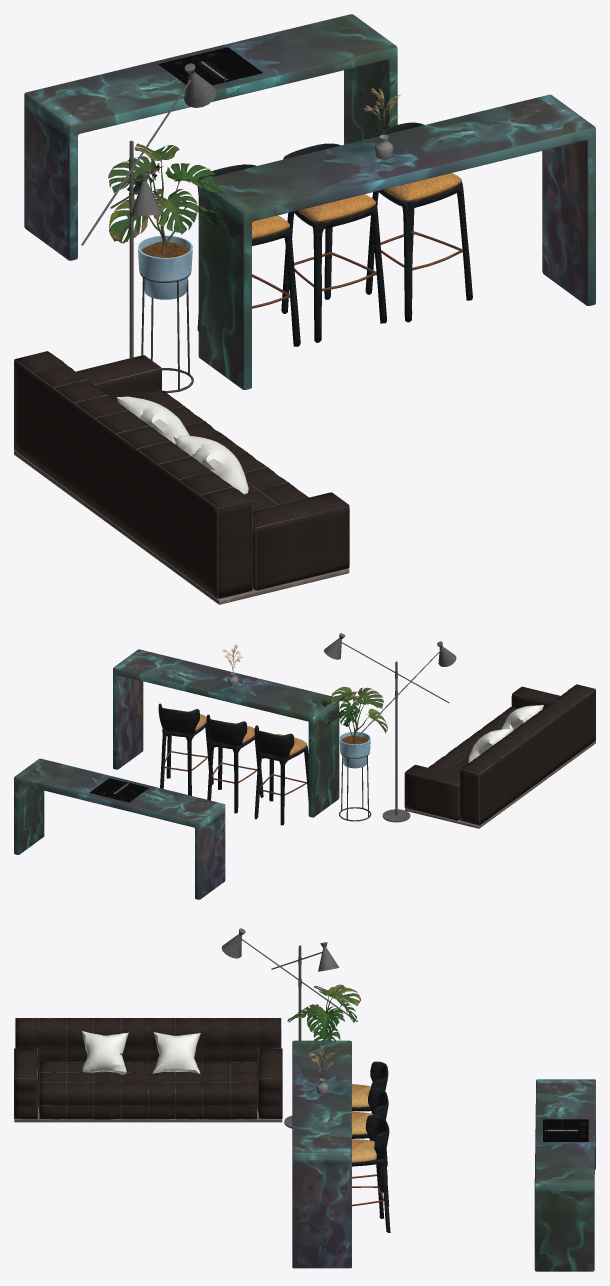
Rendered from Nuclear Reset.gltf.
3 views of the same model, one above another, from view 1: azimuth 30°, elevation 25°; view 2: azimuth 150°, elevation 25°; view 3: azimuth 270°, elevation 25° (orthographic). The views are drawn at different scales.
Parts seen in each view (by area): view 1: 2.sofa, 6.island.1, 6.island.2, 1.sofa, 7.stool.2, 5.plant, 7.stool.3, 4.pot, 3.lamp, 7.stool.1, 11.Grill; view 2: 2.sofa, 6.island.1, 6.island.2, 1.sofa, 7.stool.1, 7.stool.2, 7.stool.3, 3.lamp, 5.plant, 4.pot, 11.Grill; view 3: 2.sofa, 6.island.1, 6.island.2, 1.sofa, 7.stool.3, 5.plant, 3.lamp, 7.stool.2, 11.Grill, 7.stool.1.
Part boxes in pixels (x1,y1,x2,y2): 2.sofa: (14, 351, 349, 598); 6.island.1: (198, 94, 595, 389); 6.island.2: (24, 14, 397, 260); 1.sofa: (14, 351, 349, 604); 7.stool.2: (281, 143, 386, 342); 5.plant: (108, 143, 224, 253); 7.stool.3: (365, 122, 472, 322); 4.pot: (138, 235, 193, 392); 3.lamp: (81, 63, 215, 357); 7.stool.1: (197, 164, 300, 346); 11.Grill: (158, 47, 262, 85); 2.sofa: (405, 684, 595, 825); 6.island.1: (113, 649, 339, 817); 6.island.2: (14, 758, 225, 899); 1.sofa: (404, 684, 595, 828); 7.stool.1: (254, 725, 308, 825); 7.stool.2: (206, 714, 263, 813); 7.stool.3: (158, 703, 213, 795); 3.lamp: (324, 633, 456, 822); 5.plant: (320, 687, 387, 742); 4.pot: (339, 731, 371, 821); 11.Grill: (89, 778, 148, 802); 2.sofa: (14, 1018, 282, 1119); 6.island.1: (292, 1040, 351, 1268); 6.island.2: (534, 1079, 595, 1271); 1.sofa: (14, 1018, 282, 1122); 7.stool.3: (352, 1114, 390, 1232); 5.plant: (287, 984, 360, 1040); 3.lamp: (221, 928, 357, 1128); 7.stool.2: (352, 1088, 389, 1206); 11.Grill: (543, 1119, 588, 1141); 7.stool.1: (352, 1061, 388, 1180).
Bounding box in the file's own units: 3.72 × 1.96 × 4.86.
11 materials, 11 textured.
